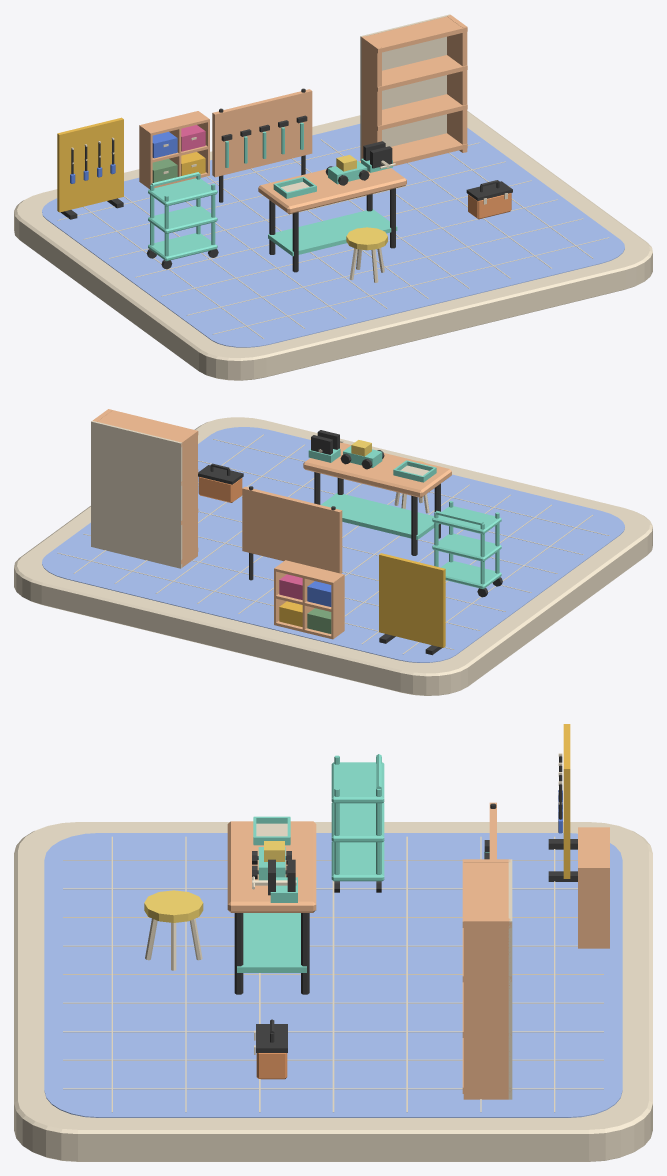
3 renders of one model, top to bottom at view 1: azimuth 30°, elevation 25°; view 2: azimuth 150°, elevation 25°; view 3: azimuth 270°, elevation 25°, orthographic. The views are drawn at different scales.
Visible parts, largest first — view 1: COM-02 Floor Surface, COM-01 Rounded Base Direct, Peg board, Panel, Back, Worktop, Lower shelf, Side, Side.001, Shelf.003, Shelf.001, Shelf.002 (+12 smaller); view 2: COM-02 Floor Surface, COM-01 Rounded Base Direct, Back, Peg board, Panel, Worktop, Lower shelf, Side, Shelf.003, Tray.001, Tray.002, Tray (+8 smaller); view 3: COM-02 Floor Surface, COM-01 Rounded Base Direct, Side.001, Worktop, Lower shelf, Shelf.003, Cubbies divider.002, Tray.002, Tray, Tray.001, Seat, Cubbies shelf.002 (+13 smaller).
Boxes of the visible parts, x1,y1,x2,y2 form: COM-02 Floor Surface: (42,124,624,347); COM-01 Rounded Base Direct: (14,111,652,380); Peg board: (212,89,312,177); Panel: (57,117,123,212); Back: (360,14,450,160); Worktop: (258,161,406,214); Lower shelf: (268,209,397,256); Side: (361,36,381,154); Side.001: (447,15,467,152); Shelf.003: (361,16,467,53); Shelf.001: (361,94,467,130); Shelf.002: (361,55,467,91); COM-02 Floor Surface: (42,427,624,662); COM-01 Rounded Base Direct: (14,417,652,695); Back: (91,420,182,568); Peg board: (242,486,342,573); Panel: (379,553,445,647); Worktop: (303,442,451,497); Lower shelf: (321,493,439,539); Side: (178,430,197,567); Shelf.003: (97,409,198,447); Tray.001: (432,533,501,561); Tray.002: (432,506,501,534); Tray: (441,561,501,589); COM-02 Floor Surface: (44,833,622,1117); COM-01 Rounded Base Direct: (14,822,652,1161); Side.001: (463,918,510,1099); Worktop: (227,821,316,912); Lower shelf: (237,913,306,972); Shelf.003: (462,859,511,927); Cubbies divider.002: (578,868,609,948); Tray.002: (331,762,384,803); Tray: (331,841,384,881); Tray.001: (331,802,384,842); Seat: (144,890,203,922); Cubbies shelf.002: (578,827,609,868).
Bounding box in the file's own units: 6 × 1.9 × 5.2.
1 material, 1 textured.
